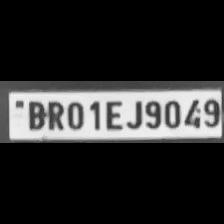0: (64, 99, 86, 130), (161, 97, 181, 128)
1: (85, 99, 101, 131)
4: (182, 96, 202, 130)
9: (142, 97, 162, 129), (201, 96, 221, 128)
B: (23, 99, 45, 130)
E: (102, 98, 122, 130)
J: (125, 97, 143, 129)
R: (45, 99, 63, 131)
